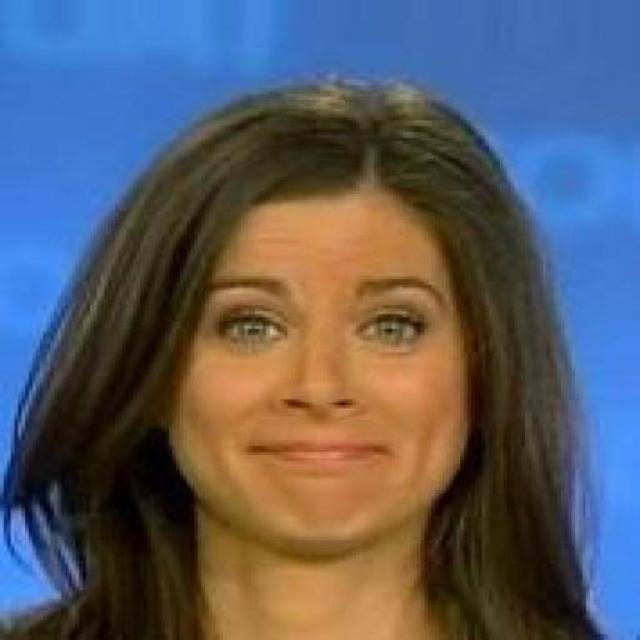bareface: (165, 104, 514, 534)
